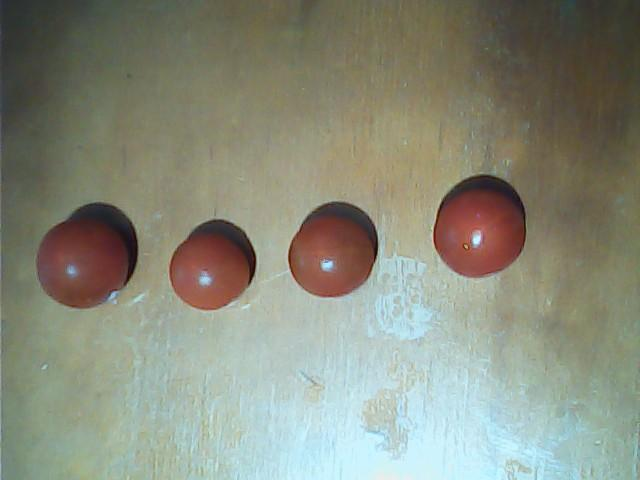maduro: (432, 189, 527, 280), (37, 222, 127, 308), (288, 217, 376, 297), (170, 234, 251, 312)
